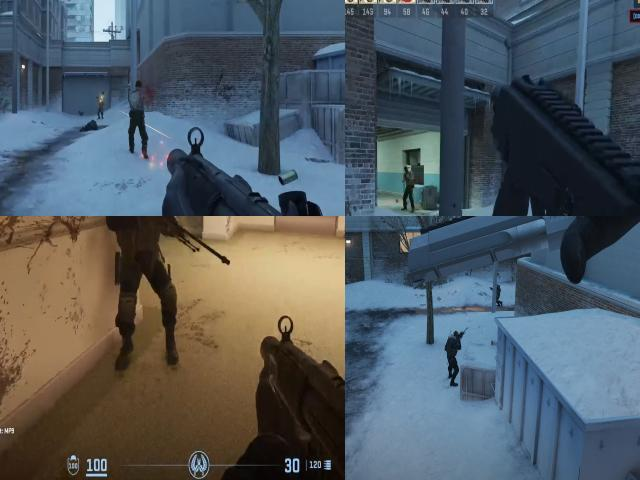CT: (107, 216, 166, 264), (445, 327, 461, 386), (97, 94, 106, 116), (496, 283, 503, 305)
CT-Head: (452, 331, 460, 339)
Dead: (78, 117, 102, 134)
T: (128, 86, 148, 122), (402, 164, 414, 191)
T-Head: (133, 79, 146, 97), (404, 166, 410, 175)
